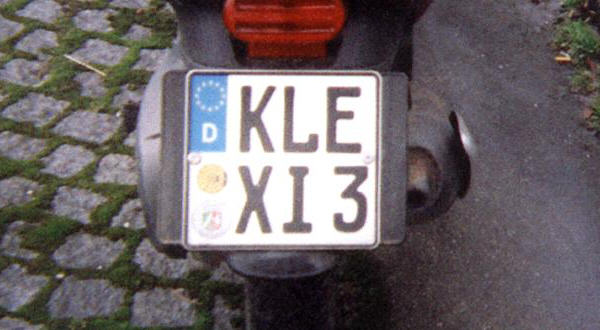license_plate: (180, 68, 379, 249)
